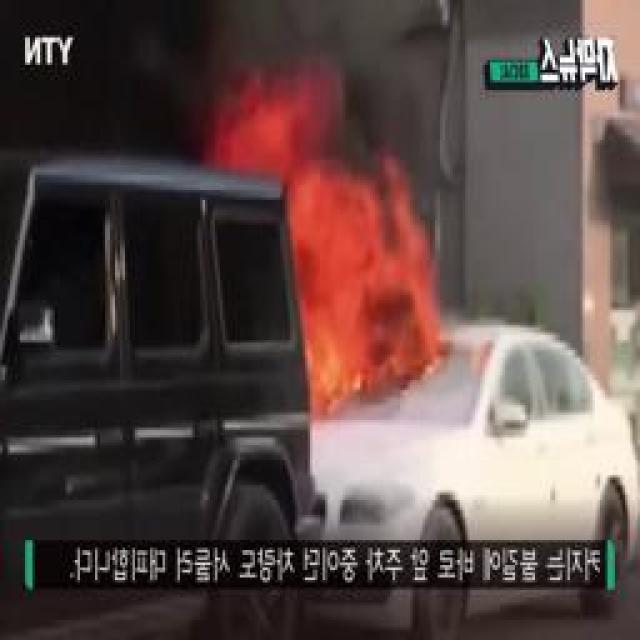Fire: (219, 111, 416, 408)
